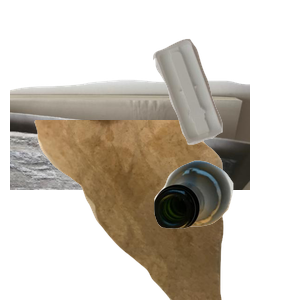glass: (151, 158, 300, 300)
paper: (10, 77, 250, 257)
plastic: (150, 36, 300, 173)
trash: (32, 120, 248, 300)
